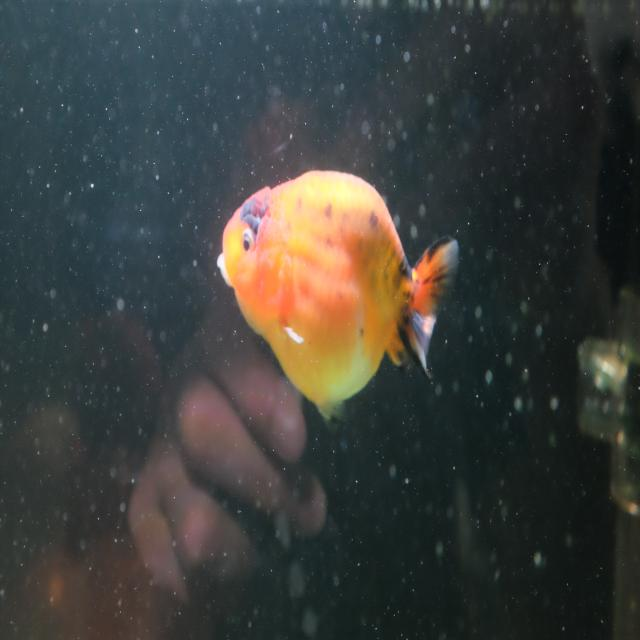Goldfish: (216, 167, 461, 427)
